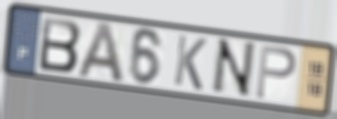6: (126, 26, 167, 88)
A: (75, 20, 127, 85)
B: (37, 15, 84, 75)
K: (172, 32, 209, 93)
N: (207, 36, 258, 100)
P: (254, 42, 298, 102)
